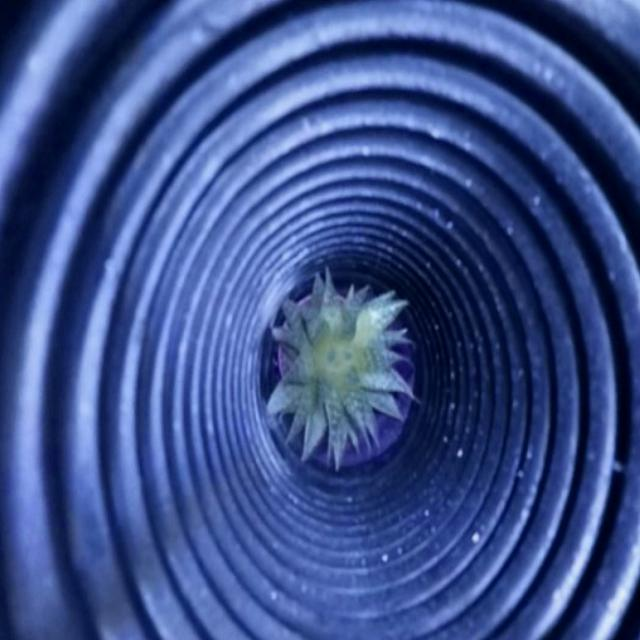leaf: (264, 284, 407, 466)
